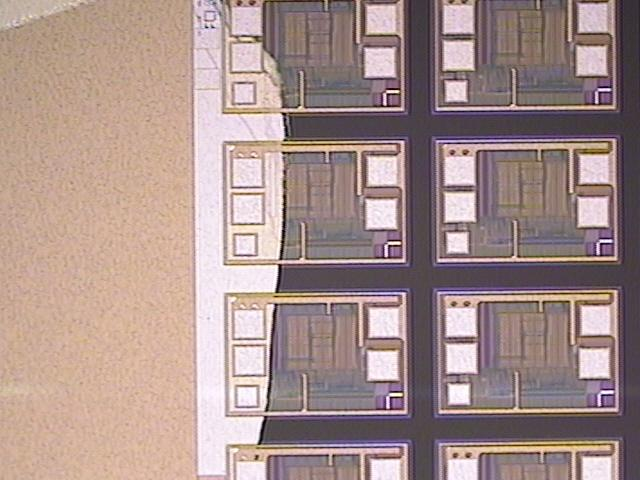BLOCK ETCH: (1, 1, 289, 480)
